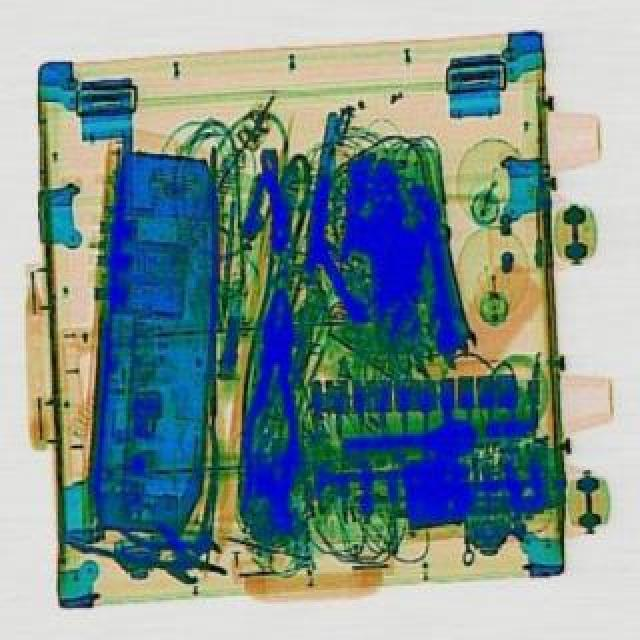scissors: (418, 224, 470, 370)
wrench: (88, 420, 276, 588), (234, 284, 306, 514)
